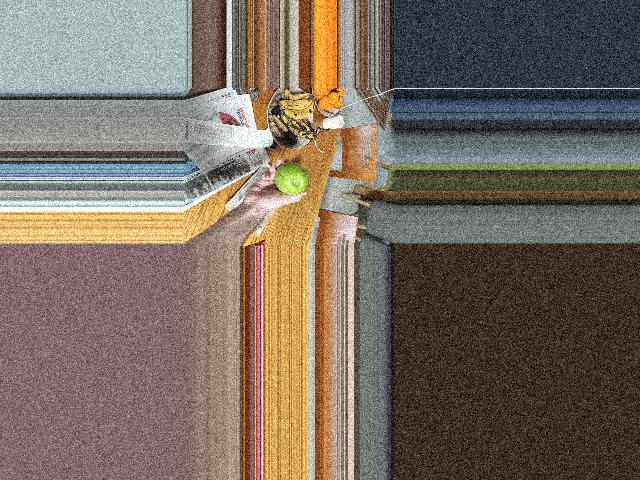apple: (273, 161, 308, 198)
